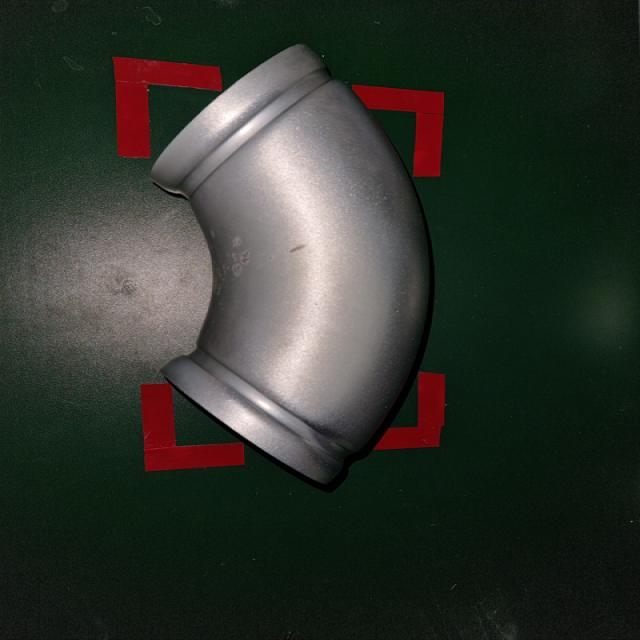Defect: (147, 39, 446, 491)
Hole: (200, 224, 326, 306)
